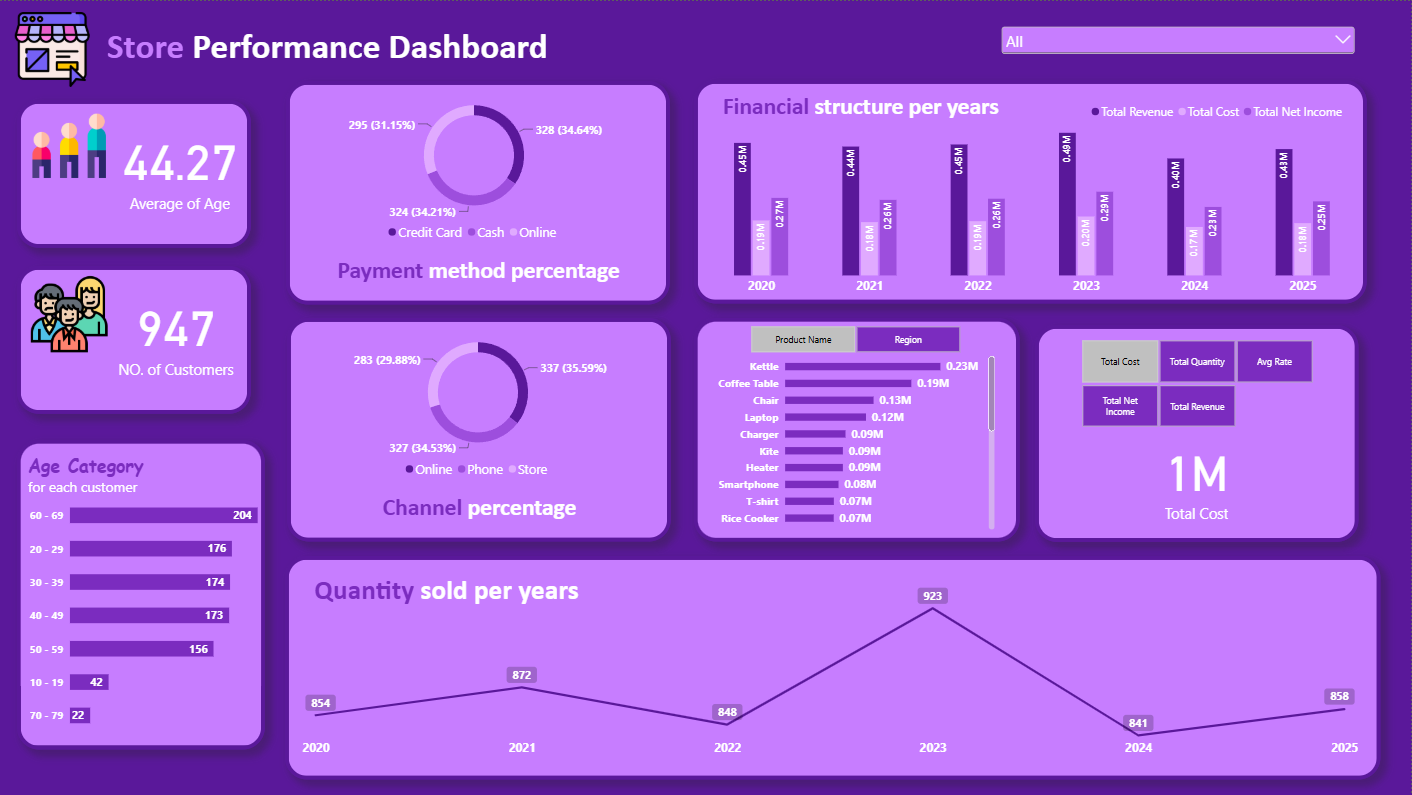

What the dashboard file says about the page in this screenshot:
{"tool":"powerbi","page":{"name":"Dashboard","canvas":[1920,1080],"ordinal":0},"visuals":[{"type":"textbox","box":[140.1,30.6,612.8,70],"z":0},{"type":"image","box":[5.8,14.6,134.2,102.1],"z":1000},{"type":"shape","box":[24.2,360.1,318,201],"z":2000},{"type":"cardVisual","fields":{"Data":["CountNonNull(Data set.Customer ID)"]},"box":[143.7,384.3,193.7,151.3],"z":3000},{"type":"shape","box":[24.2,134.7,318,201],"z":4000},{"type":"cardVisual","fields":{"Data":["Avg(Data set.Age)"]},"box":[151.3,158.9,190.6,151.3],"z":5000},{"type":"image","box":[39.3,146.8,112,99.9],"z":6000},{"type":"image","box":[39.3,372.2,112,107.4],"z":7000},{"type":"shape","box":[24.2,597.6,337.4,420.6],"z":8000},{"type":"barChart","title":"No. of customer in each category","fields":{"Category":["Data set.Age category"],"Y":["CountNonNull(Data set.Customer ID)"]},"box":[24.2,649.1,400.9,369.2],"z":9000},{"type":"textbox","box":[39.3,614.3,202.7,69.6],"z":10000},{"type":"shape","box":[390.4,108.9,522,304.1],"z":11000},{"type":"donutChart","fields":{"Category":["Data set.Payment Method"],"Y":["CountNonNull(Data set.Payment Method)"]},"box":[404,108.9,484.2,237.5],"z":12000},{"type":"textbox","box":[456.9,346.5,390.4,48.4],"z":13000},{"type":"shape","box":[391.3,430.6,522,304.1],"z":14000},{"type":"donutChart","fields":{"Category":["Data set.Channel"],"Y":["CountNonNull(Data set.Channel)"]},"box":[410,431.2,484.2,237.5],"z":15000},{"type":"textbox","box":[458.4,668.7,390.4,56],"z":16000},{"type":"shape","box":[388.8,755,1490.3,304.1],"z":17000},{"type":"lineChart","fields":{"Category":["Data set.Date.Variation.Date Hierarchy.Year"],"Y":["Sum(Data set.Quantity Sold)"]},"box":[396.4,767.1,1469.1,279.9],"z":18000},{"type":"textbox","box":[420.6,777.7,376.7,72.6],"z":19000},{"type":"shape","box":[945.6,107.4,915.4,304.1],"z":20000},{"type":"clusteredColumnChart","fields":{"Category":["Data set.Date.Variation.Date Hierarchy.Year"],"Y":["Sum(Data set.Revenue)","Sum(Data set.Cost)","Sum(Data set.Net Income)"]},"box":[962.3,119.5,886.6,299.6],"z":21000},{"type":"textbox","box":[975.9,124.1,393.4,45.4],"z":22000},{"type":"shape","box":[945.6,431.2,443.3,304.1],"z":23000},{"type":"clusteredBarChart","title":"No. of customer in each category","fields":{"Category":["Data set.Product Name"],"Y":["Sum(Data set.Net Income)"]},"box":[960.8,461.5,410,273.9],"z":24000},{"type":"slicer","fields":{"Values":["Parameter.Parameter"]},"box":[1003.1,440.3,323.8,39.3],"z":25000},{"type":"shape","box":[1408.6,440.3,440.3,295],"z":26000},{"type":"cardVisual","fields":{"Data":["Data set.Total Net Income"]},"box":[1499.4,588.6,260.2,136.2],"z":27000},{"type":"slicer","fields":{"Values":["Parameter 2.Parameter"]},"box":[1452.5,460,352.5,121],"z":28000},{"type":"slicer","fields":{"Values":["Data set.Branch"]},"box":[1358.7,30.3,490.2,49.9],"z":28001}]}

Visuals, with their boxes in screenshot pixels (x1, y1, x2, y2), scaled from the page's 1920x1080 canvas onto the 1412x795 screenshot:
textbox: BBox(103, 23, 554, 74)
image: BBox(4, 11, 103, 86)
shape: BBox(18, 265, 252, 413)
cardVisual - CountNonNull(Data set.Customer ID): BBox(106, 283, 248, 394)
shape: BBox(18, 99, 252, 247)
cardVisual - Avg(Data set.Age): BBox(111, 117, 251, 228)
image: BBox(29, 108, 111, 182)
image: BBox(29, 274, 111, 353)
shape: BBox(18, 440, 266, 750)
"No. of customer in each category" barChart: BBox(18, 478, 313, 750)
textbox: BBox(29, 452, 178, 503)
shape: BBox(287, 80, 671, 304)
donutChart - Data set.Payment Method x CountNonNull(Data set.Payment Method): BBox(297, 80, 653, 255)
textbox: BBox(336, 255, 623, 291)
shape: BBox(288, 317, 672, 541)
donutChart - Data set.Channel x CountNonNull(Data set.Channel): BBox(302, 317, 658, 492)
textbox: BBox(337, 492, 624, 533)
shape: BBox(286, 556, 1382, 780)
lineChart - Data set.Date.Variation.Date Hierarchy.Year x Sum(Data set.Quantity Sold): BBox(292, 565, 1372, 771)
textbox: BBox(309, 572, 586, 626)
shape: BBox(695, 79, 1369, 303)
clusteredColumnChart - Data set.Date.Variation.Date Hierarchy.Year x Sum(Data set.Revenue): BBox(708, 88, 1360, 309)
textbox: BBox(718, 91, 1007, 125)
shape: BBox(695, 317, 1021, 541)
"No. of customer in each category" clusteredBarChart: BBox(707, 340, 1008, 541)
slicer - Parameter.Parameter: BBox(738, 324, 976, 353)
shape: BBox(1036, 324, 1360, 541)
cardVisual - Data set.Total Net Income: BBox(1103, 433, 1294, 534)
slicer - Parameter 2.Parameter: BBox(1068, 339, 1327, 428)
slicer - Data set.Branch: BBox(999, 22, 1360, 59)
